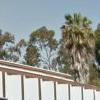Palm tree: (56, 8, 99, 82)
